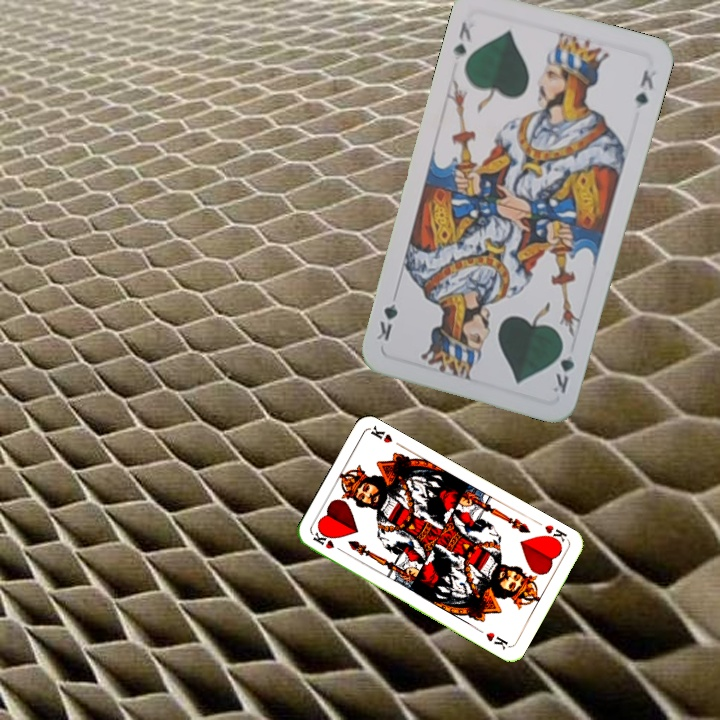GK: (548, 338, 577, 396), (449, 18, 475, 64)
HK: (308, 528, 347, 555), (539, 521, 570, 548)
